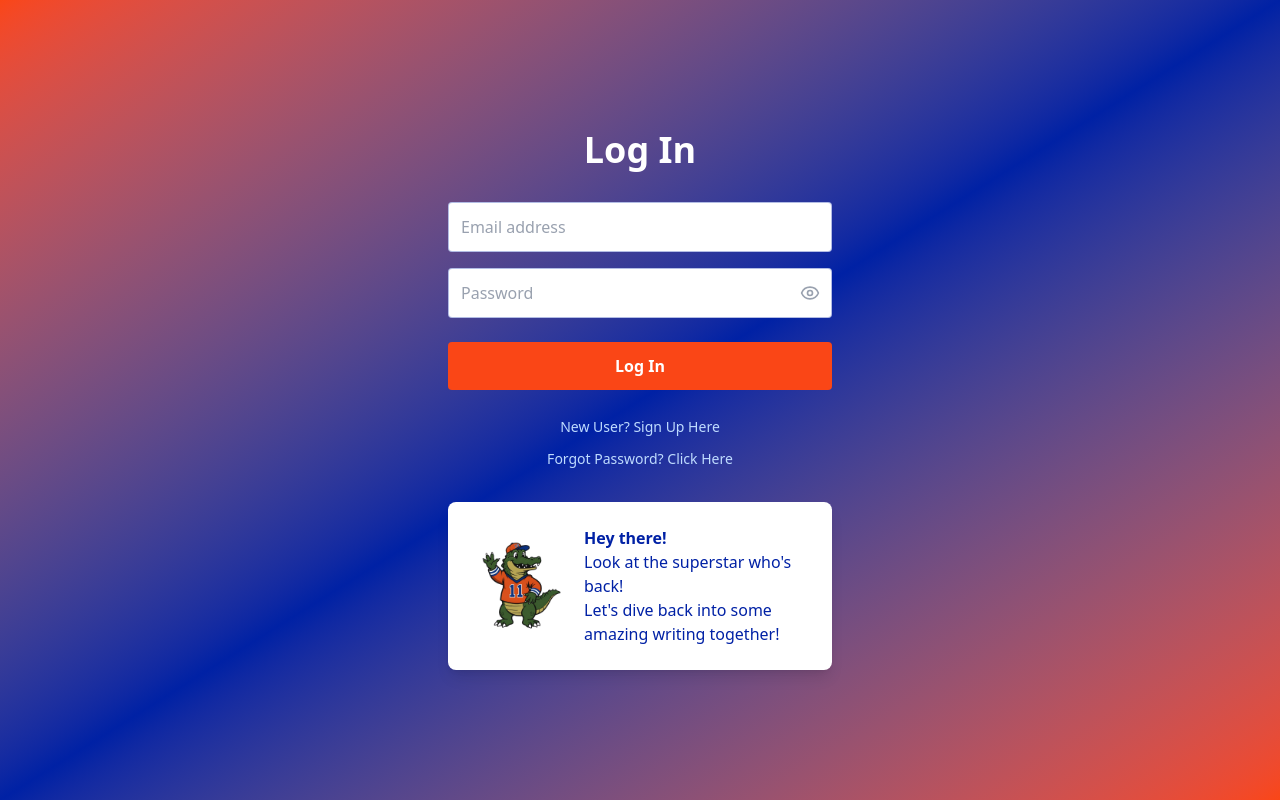
Test: Login Page Tests › should validate UF email format
// Fill in non-UF email
Type "test@gmail.com" into the field named "email" at (640, 227), box [448,202,832,252]
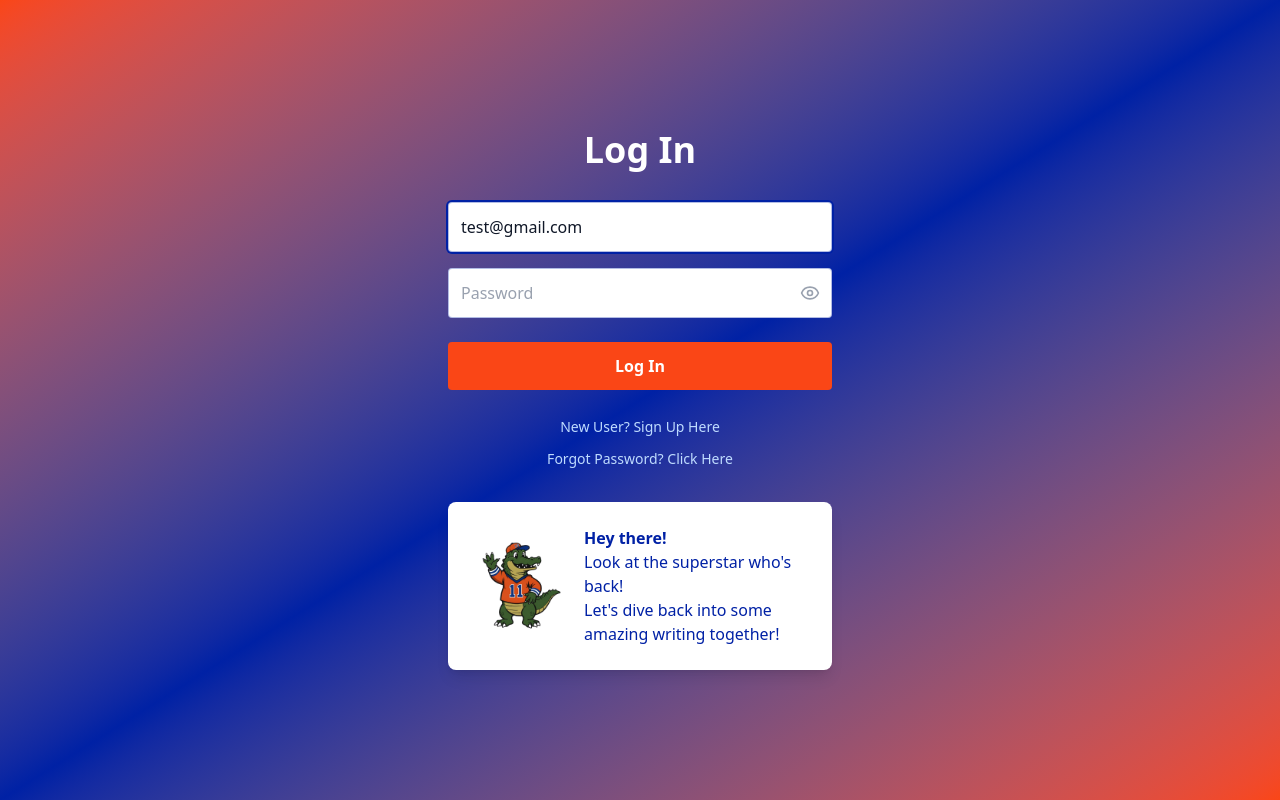
Type "Password123" into the password field named "password" at (640, 293), box [448,268,832,318]
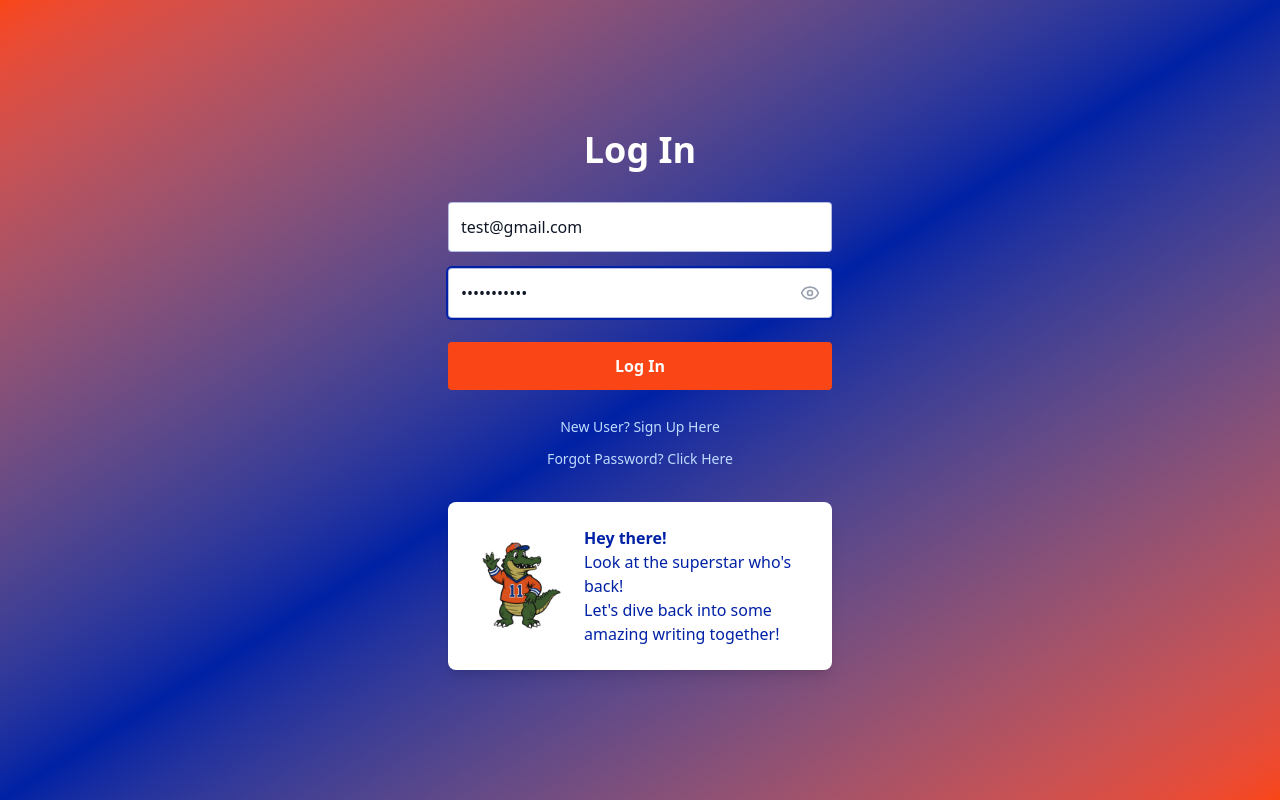
// Submit form
Click the submit button at (640, 366), box [448,342,832,390]
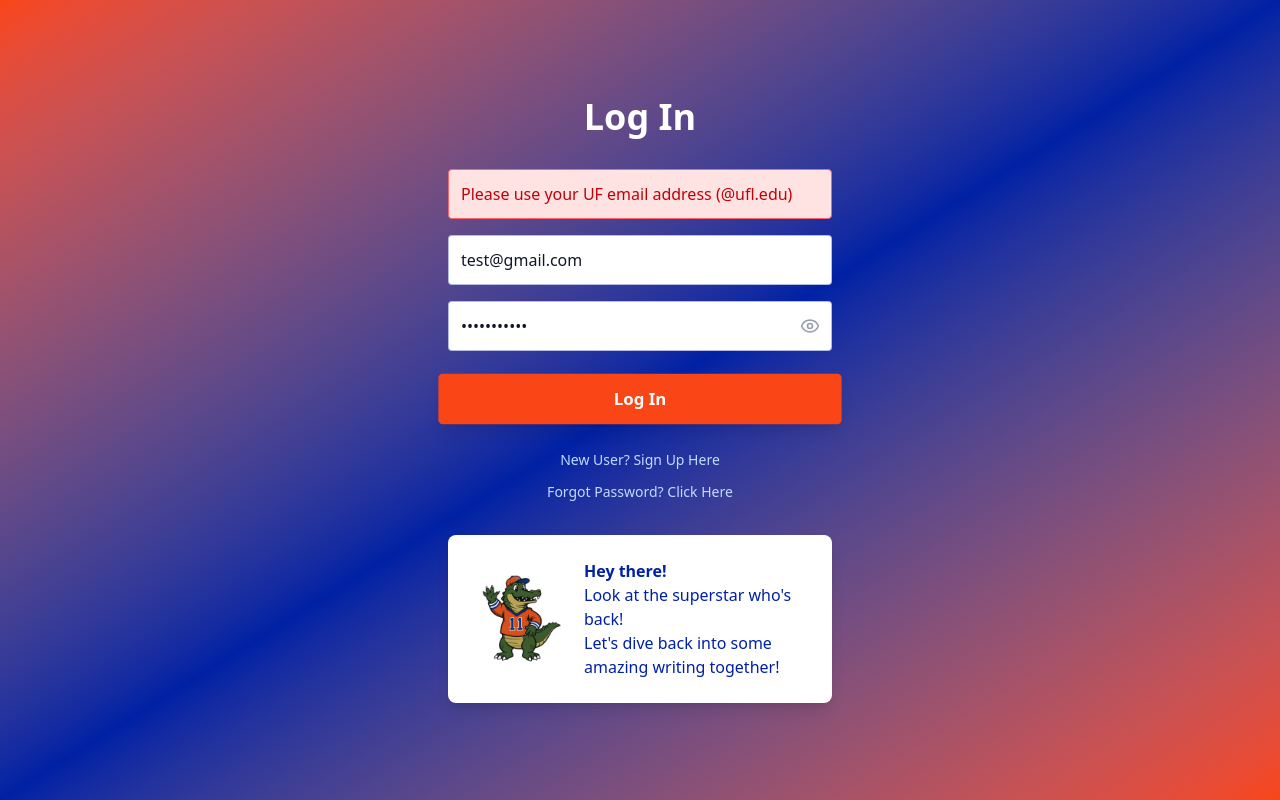
Expected: the text "Please use your UF email address (@ufl.edu)" is shown, [448,169,832,219]
